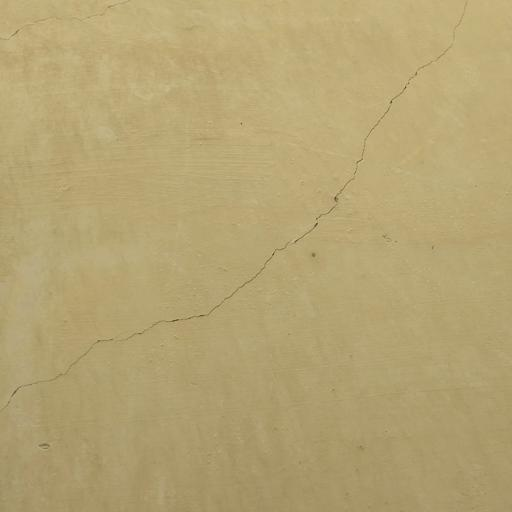minor_crack: (6, 6, 501, 416)
